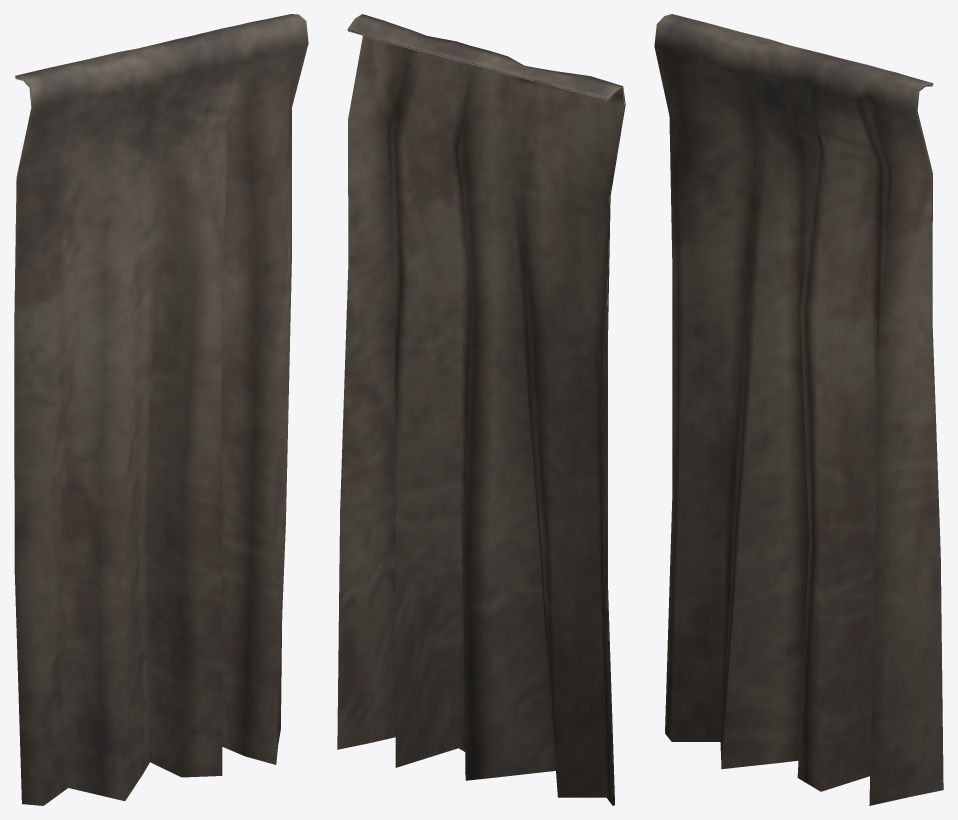
File: SM_Curtain_B.fbx
3 renders of one model, left to right at view 1: azimuth 30°, elevation 25°; view 2: azimuth 150°, elevation 25°; view 3: azimuth 330°, elevation 25°, orthographic.
Visible parts, largest first — view 1: SM_Curtain_B; view 2: SM_Curtain_B; view 3: SM_Curtain_B.
Boxes of the visible parts, left/top/right/bottom form: SM_Curtain_B: left=14, top=14, right=308, bottom=805; SM_Curtain_B: left=337, top=14, right=625, bottom=805; SM_Curtain_B: left=654, top=14, right=943, bottom=805.
Size of the model in its own units: 0.4438 by 0.1212 by 1.14.
